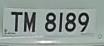1: (57, 10, 65, 35)
8: (64, 10, 78, 35), (44, 10, 57, 35)
9: (77, 11, 91, 34)
M: (23, 10, 38, 36)
T: (10, 8, 24, 36)
